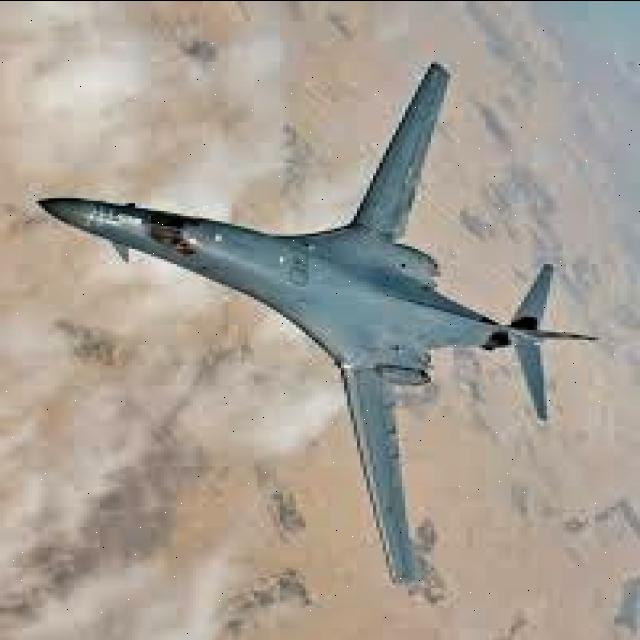B1: (0, 26, 611, 594)
